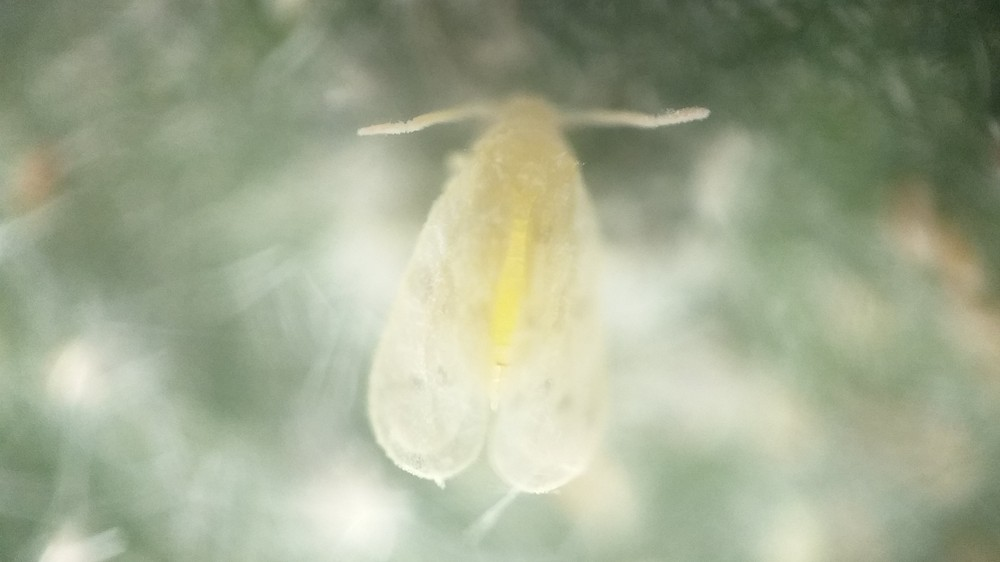Mosca Blanca: (343, 86, 738, 515)
